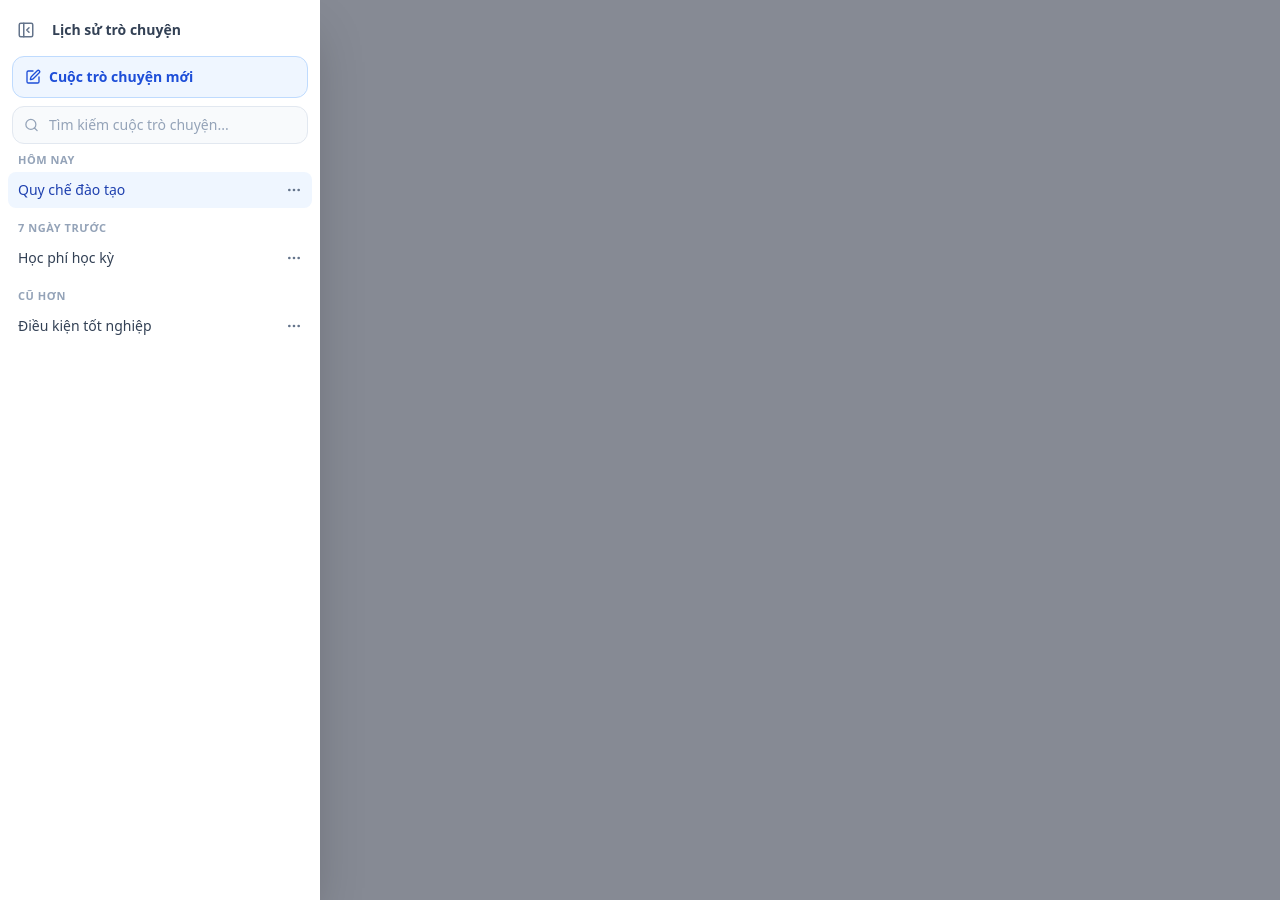
Scenario: ChatHistoryPanel - chế độ ngăn kéo (màn hình nhỏ) › Esc khi đang mở menu ⋯ chỉ đóng menu, không đóng ngăn kéo
Click the button named "Tùy chọn cuộc trò chuyện" below "Hôm nay" at (294, 190), box [280,176,308,204]
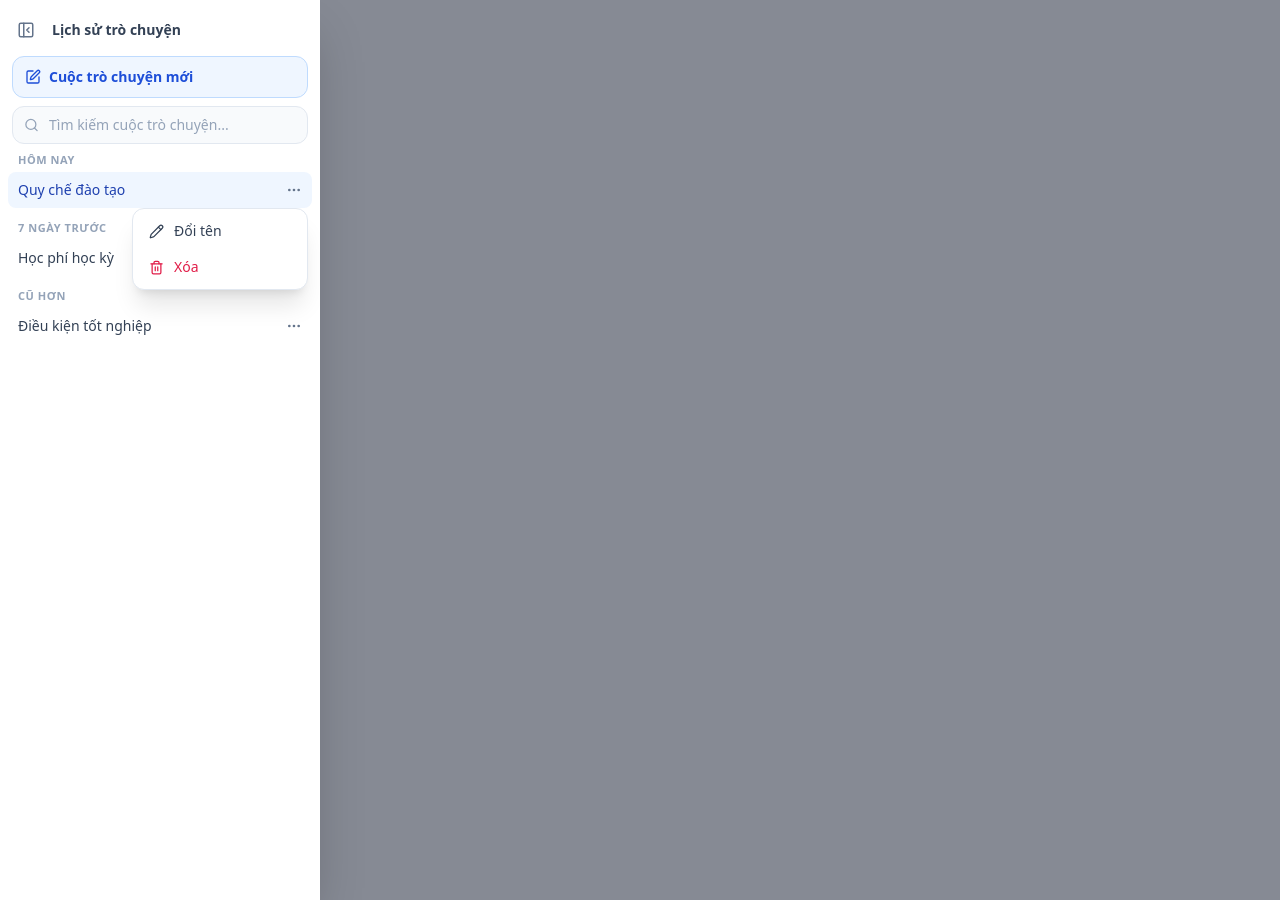
Result: the menu is shown at [132,208,308,290]
Press Escape
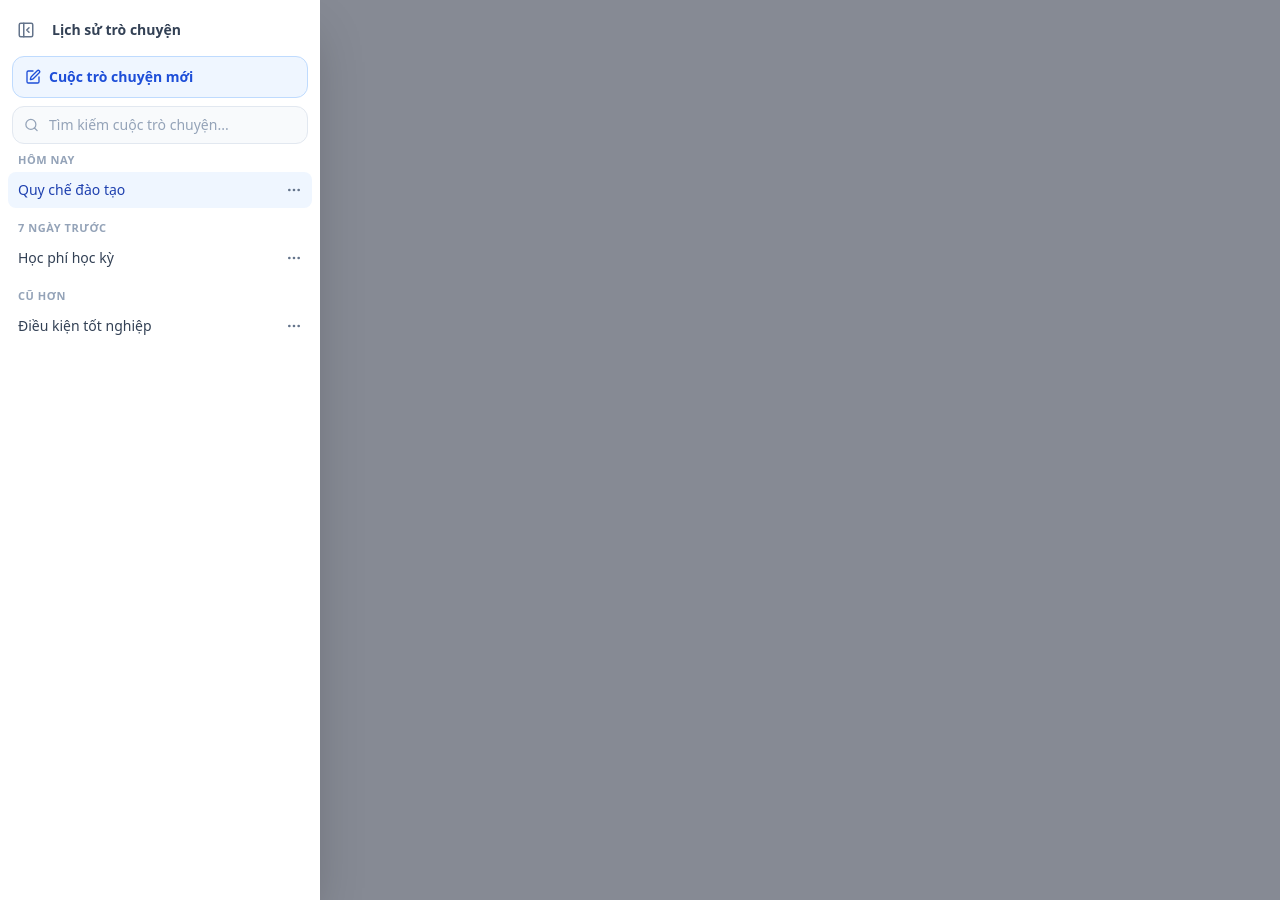
Result: the menu is gone
